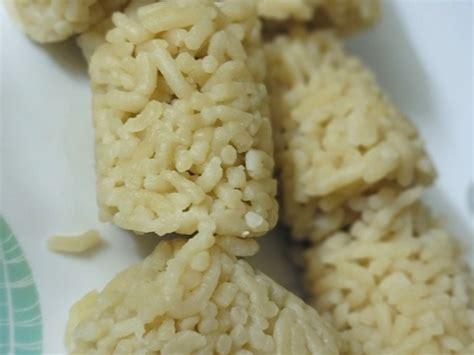Pittu: (59, 10, 469, 355)
